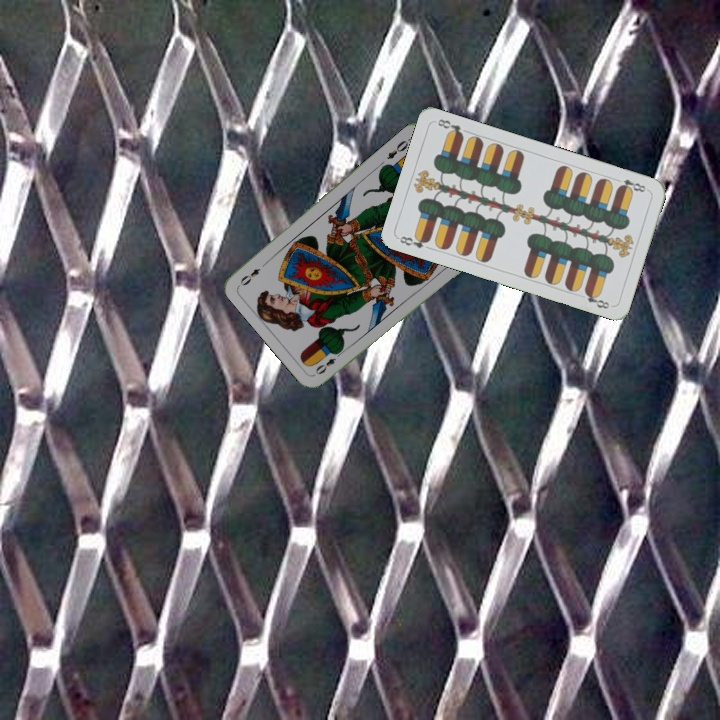E8: (612, 174, 651, 195), (396, 231, 433, 251)
EO: (311, 346, 346, 377), (383, 134, 413, 162)
